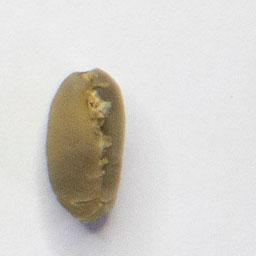peaberry: (43, 62, 128, 227)
